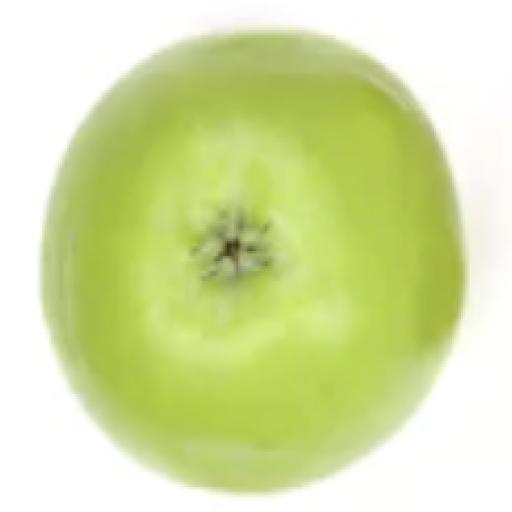apple: (43, 31, 465, 491)
